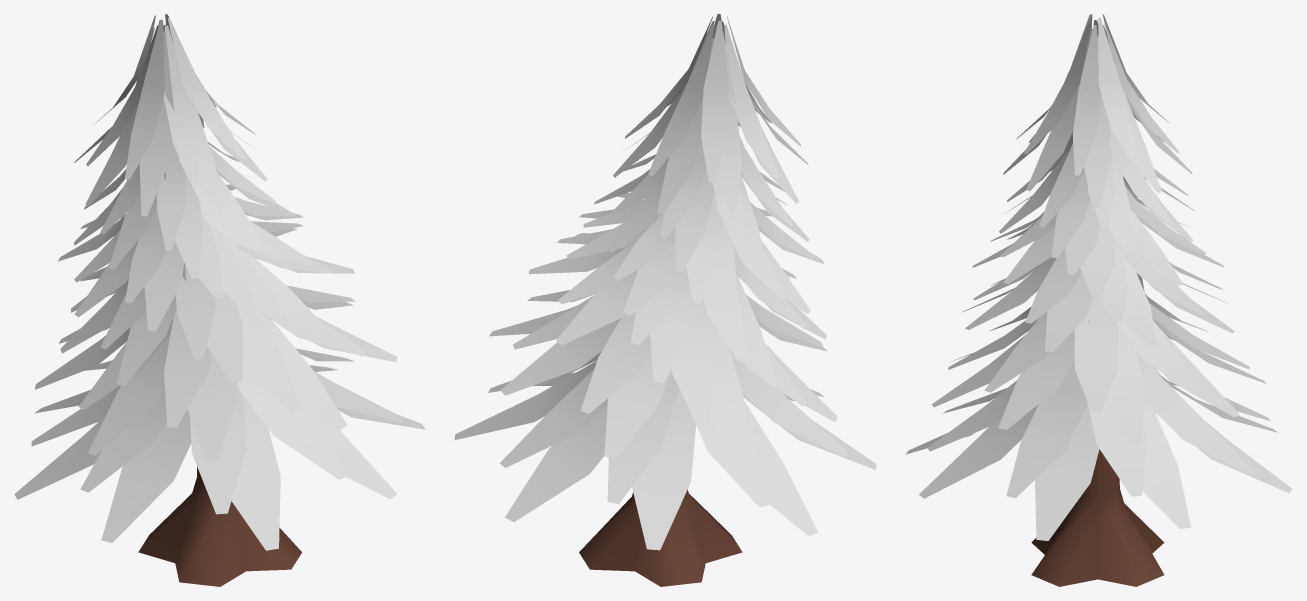
Rendered from Fir2.fbx.
The picture shows the model from 3 angles, left to right: view 1: azimuth 30°, elevation 25°; view 2: azimuth 150°, elevation 25°; view 3: azimuth 270°, elevation 25°; orthographic projection. The views are drawn at different scales.
Parts seen in each view (by area): view 1: Fir2; view 2: Fir2; view 3: Fir2.
Boxes of the visible parts, x1,y1,x2,y2 form: Fir2: (14, 14, 425, 586); Fir2: (454, 14, 876, 586); Fir2: (905, 14, 1292, 586).
Size of the model in its own units: 547 by 808 by 549.
